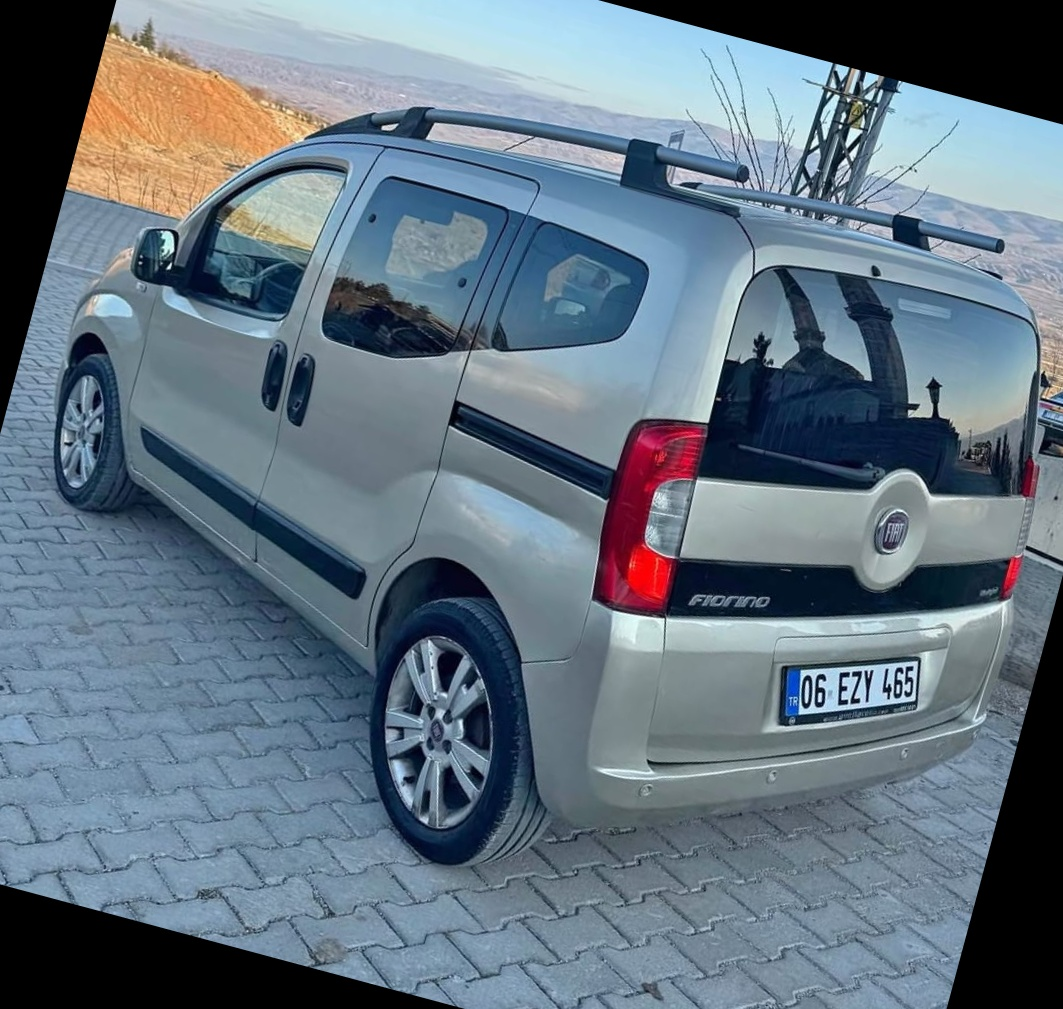plaka: (788, 657, 925, 708)
